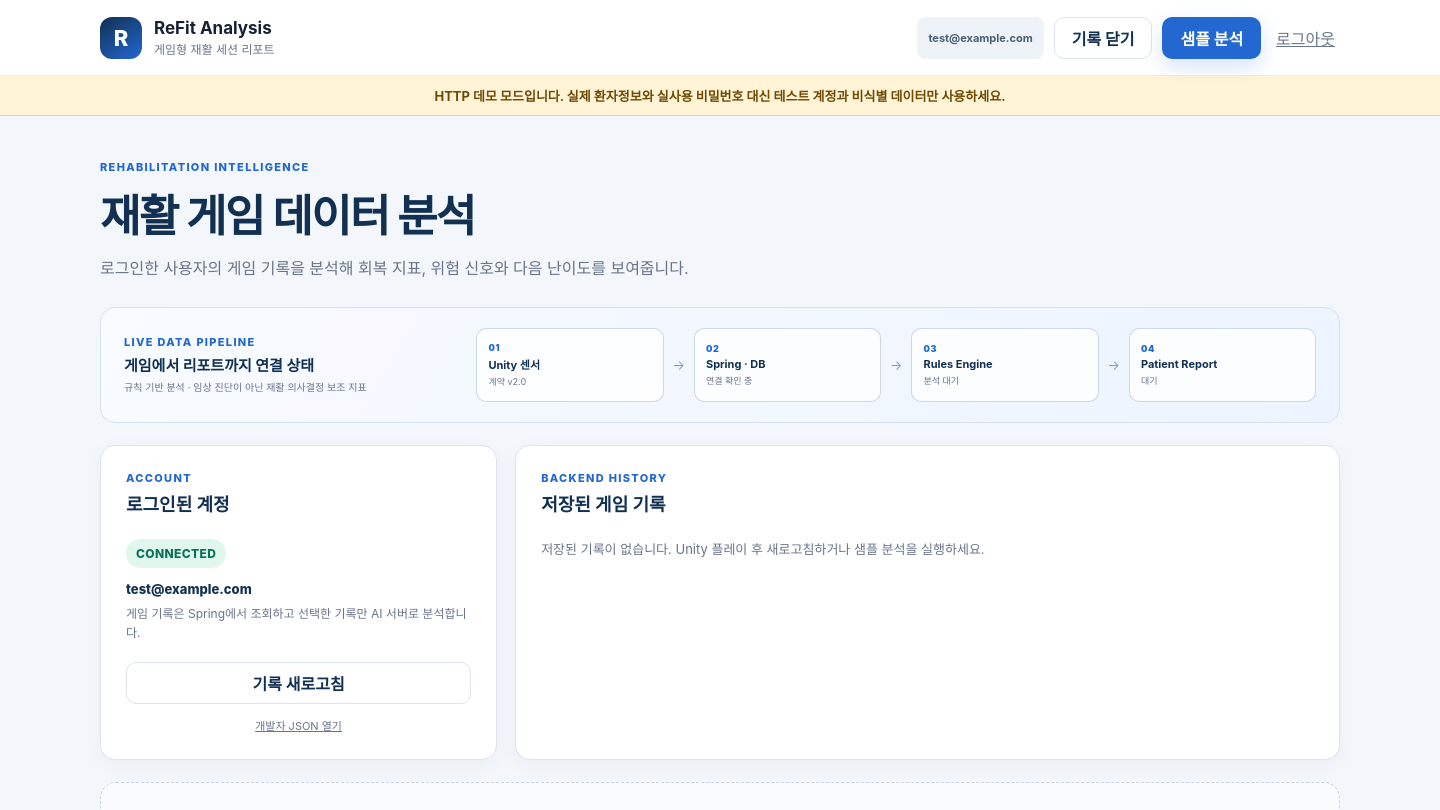
Test: routes a saved game history through Spring and reports DB persistence
Click the button "기록 새로고침" at (299, 683), box [126,662,471,704]
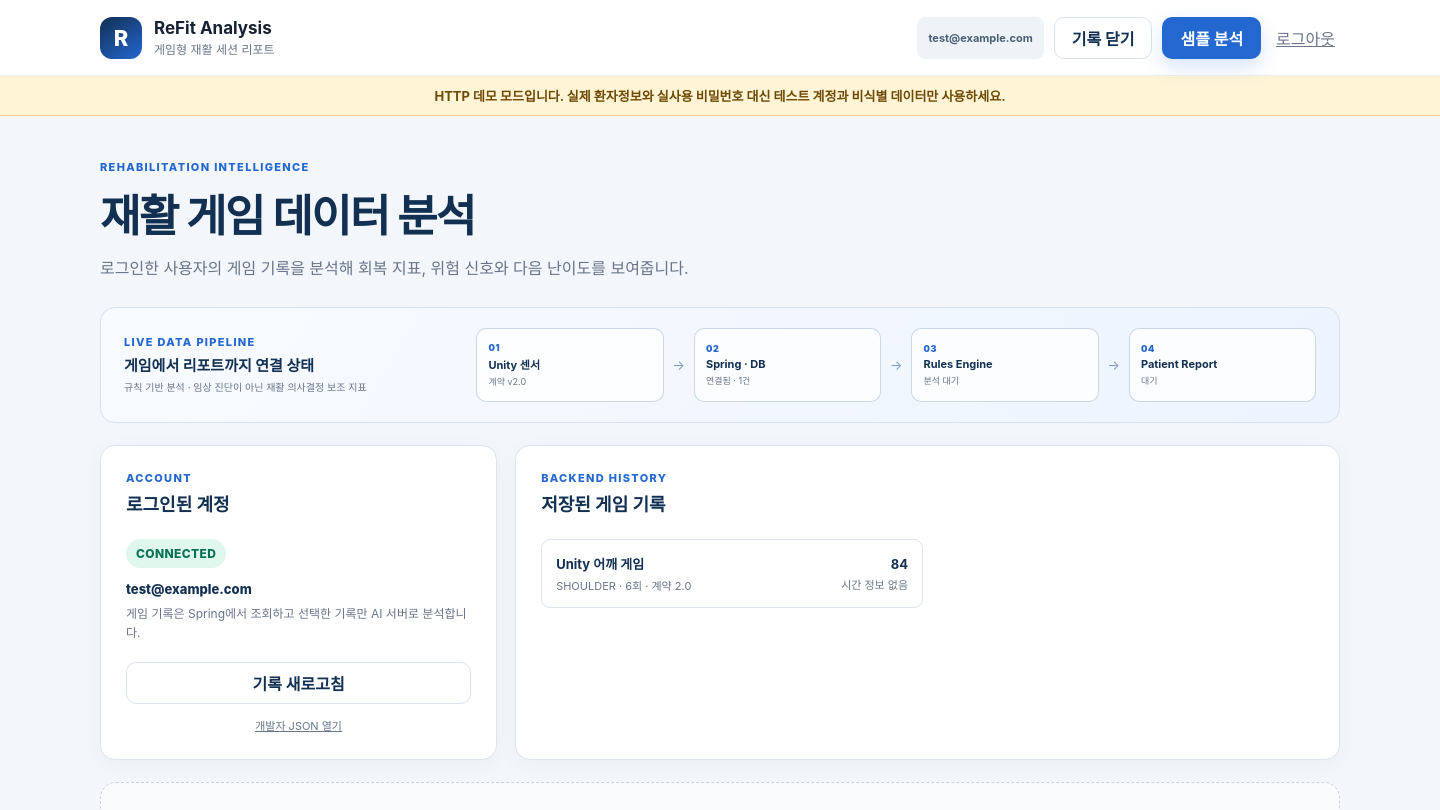
Click the button "Unity 어깨 게임 SHOULDER · 6회 · 계약 2.0 84 시간 정보 없음" at (600, 564), box [541,539,923,608]
(page scrolled)
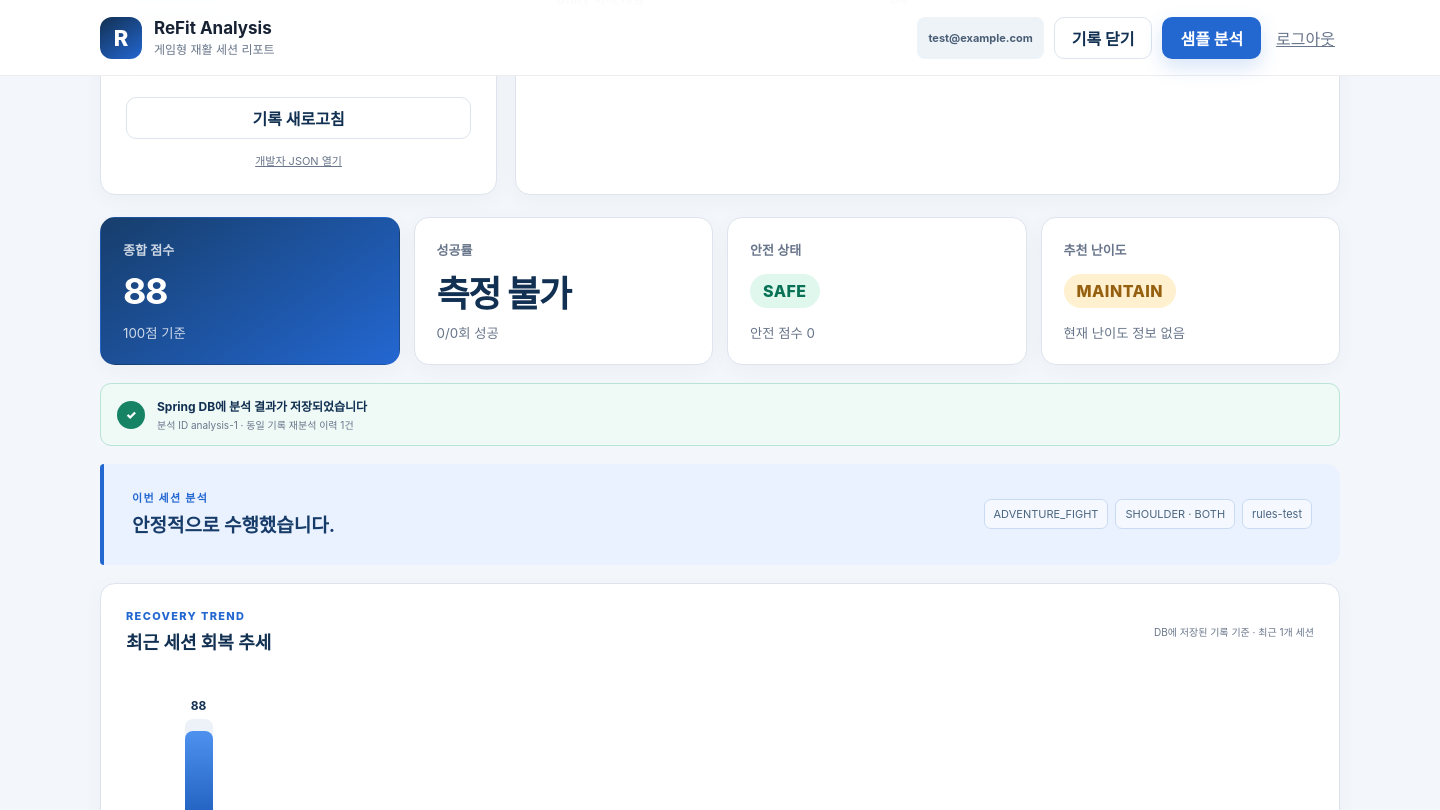
Now the text "Spring DB에 분석 결과가 저장되었습니다" is shown, box [157,397,367,414]
